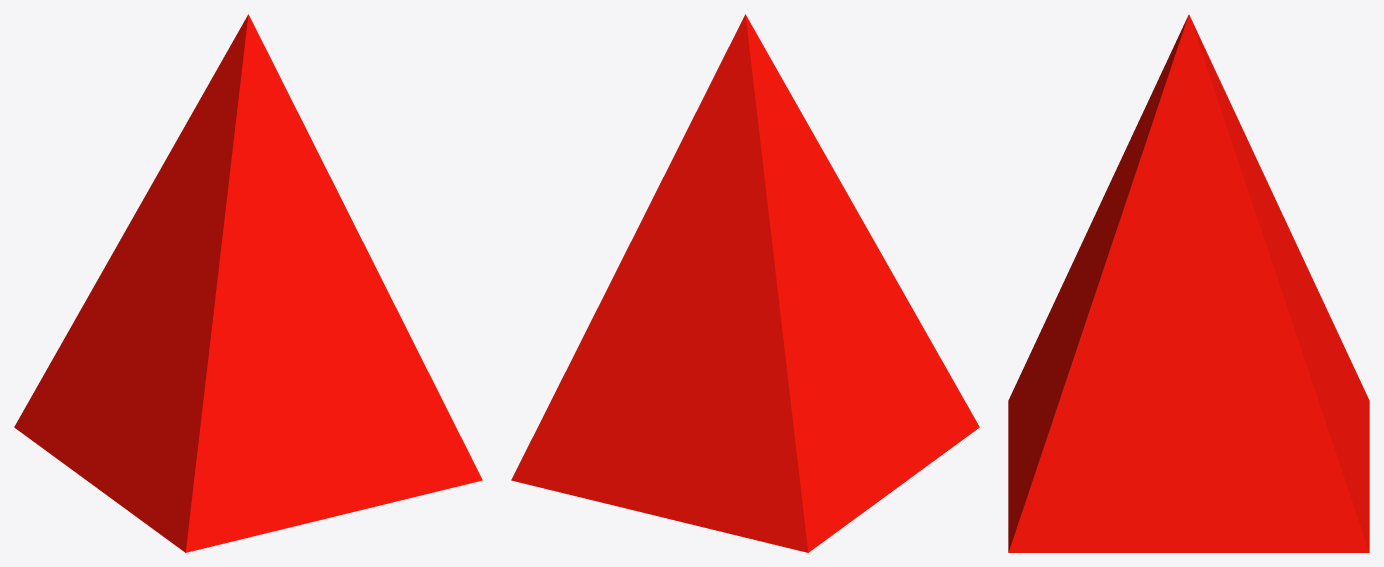
Rendered from obs3.fbx.
The picture shows the model from 3 angles, left to right: view 1: azimuth 30°, elevation 25°; view 2: azimuth 150°, elevation 25°; view 3: azimuth 270°, elevation 25°; orthographic projection. The views are drawn at different scales.
Parts seen in each view (by area): view 1: Spike; view 2: Spike; view 3: Spike.
Part boxes in pixels (box(x1,y1,x2,y2)): Spike: box(14, 14, 482, 552); Spike: box(511, 14, 979, 552); Spike: box(1008, 14, 1369, 552).
Size of the model in its own units: 0.8787 by 1.24 by 0.8787.
1 material, 1 textured.
